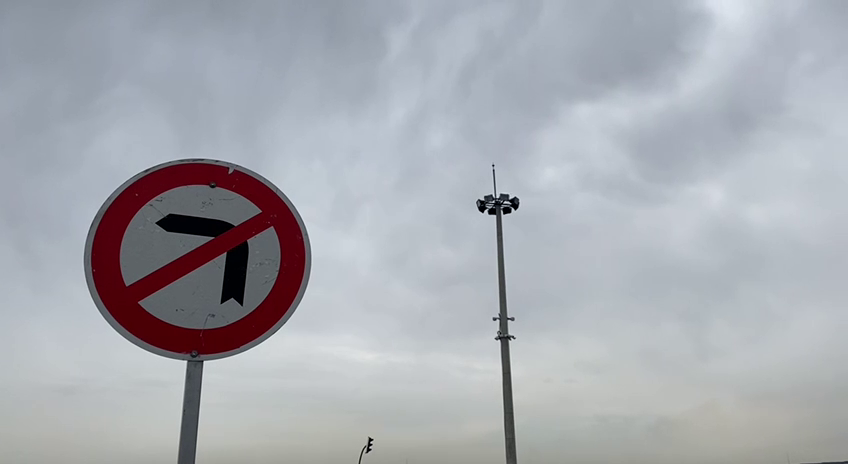noTurnLeft: (79, 146, 320, 369)
